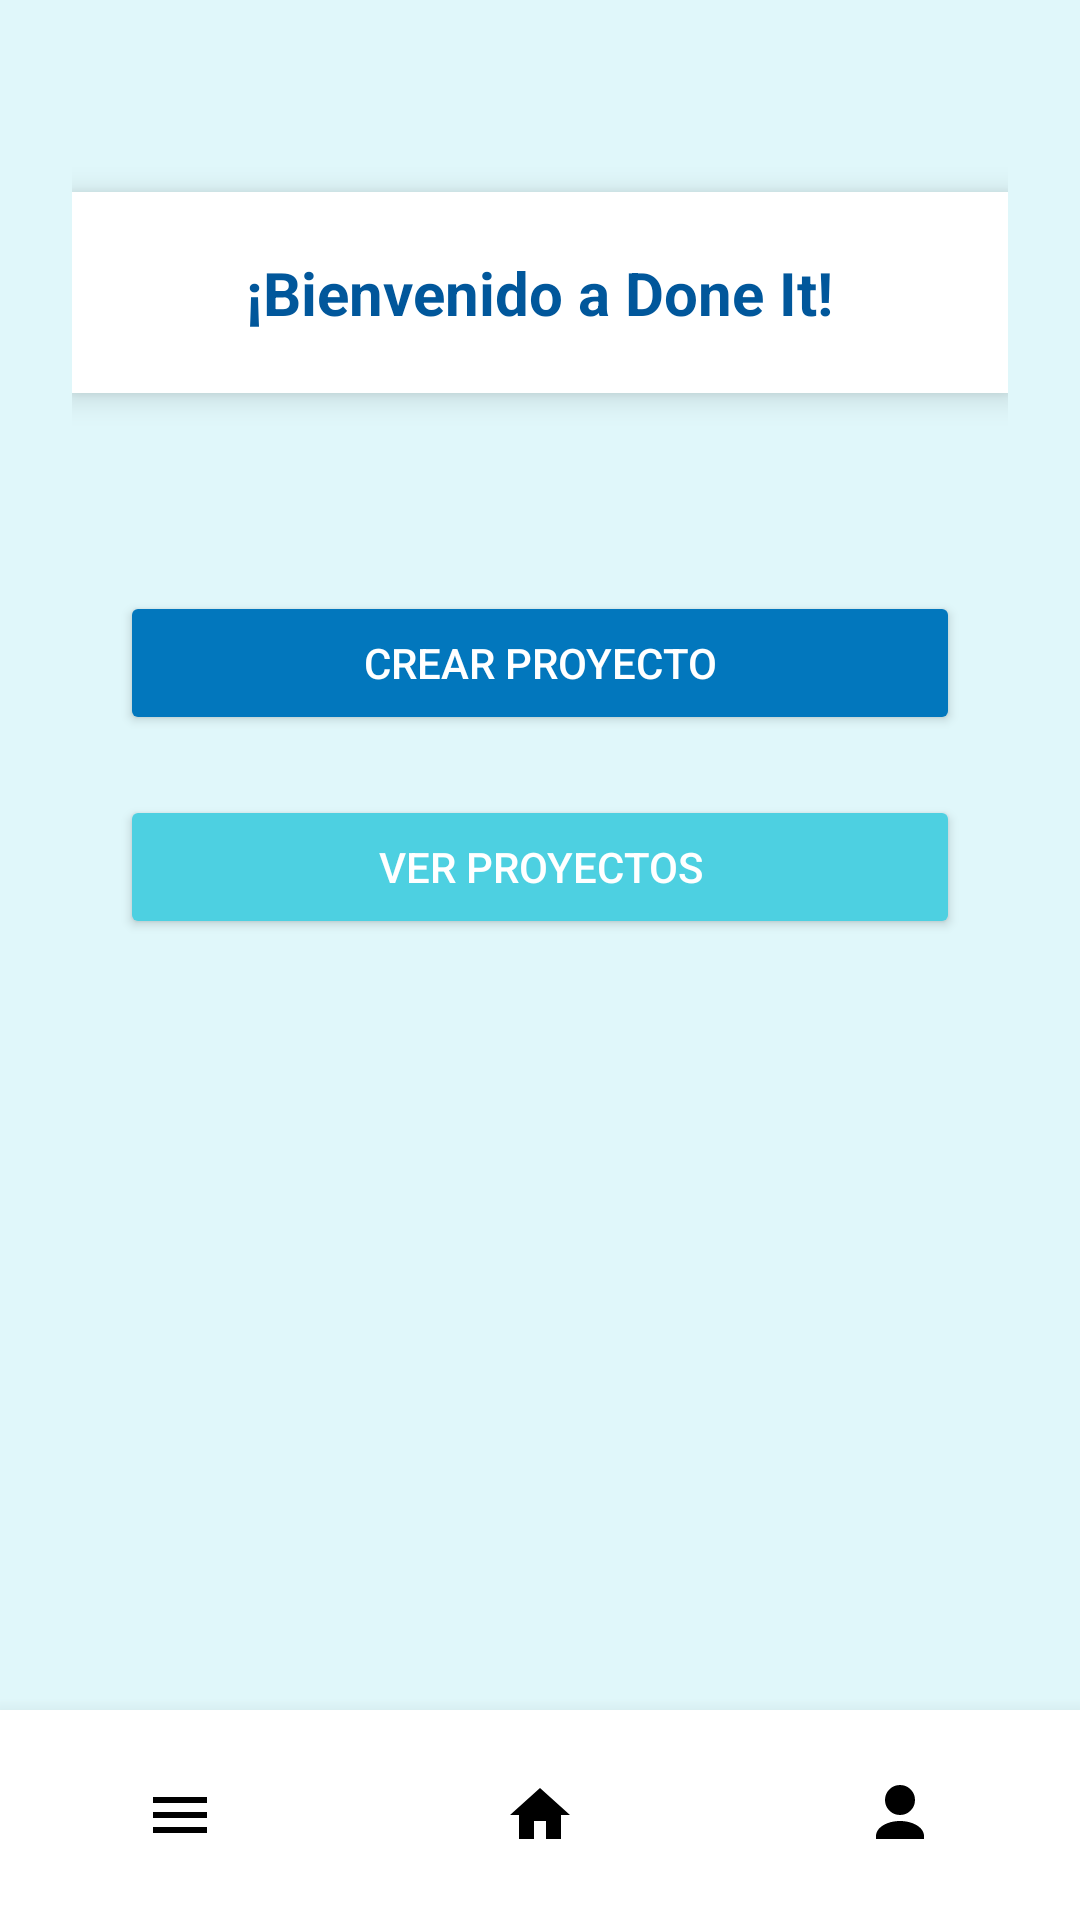

Point at icon controls on the screen. Image size 1080 x 1920, points as [x,y].
Inicio: [540,1813]
Menú: [180,1815]
Perfil: [900,1812]
